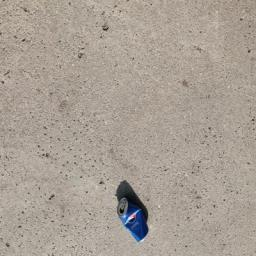FOD: (105, 174, 158, 248)
